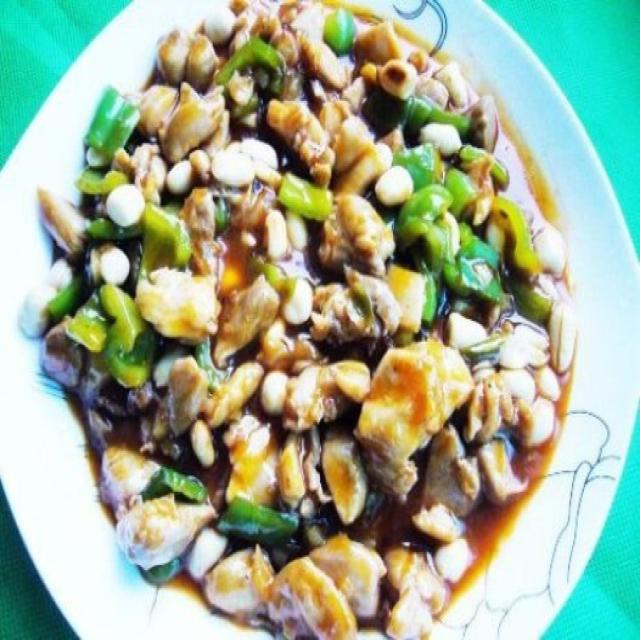鸡肉料理 含炸鸡: (13, 5, 617, 633)
